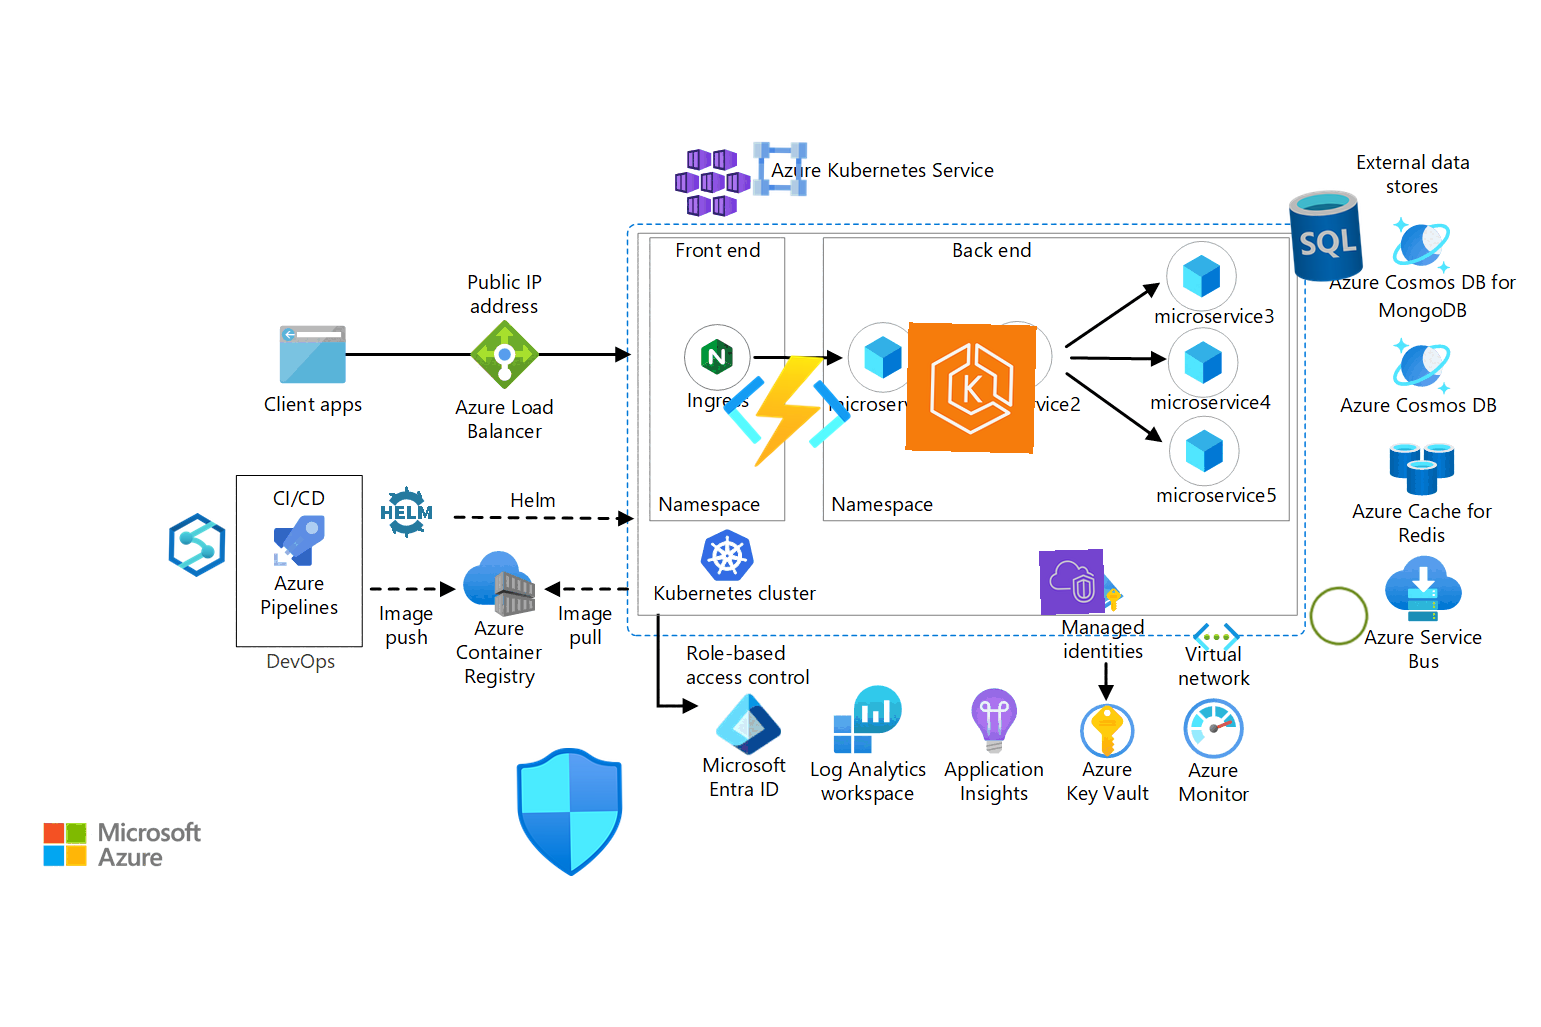aws_amazon_elastic_kubernetes_service: (905, 322, 1037, 454)
aws_amazon_virtual_private_cloud: (1039, 549, 1104, 616)
aws_simple_storage_service_object: (1304, 581, 1374, 651)
azure_function_apps: (718, 343, 856, 481)
azure_network_security_groups: (504, 746, 636, 878)
azure_sql_database: (1274, 185, 1378, 288)
azure_synapse_analytics: (164, 512, 230, 578)
gcp_virtual_private_cloud: (747, 136, 813, 202)
